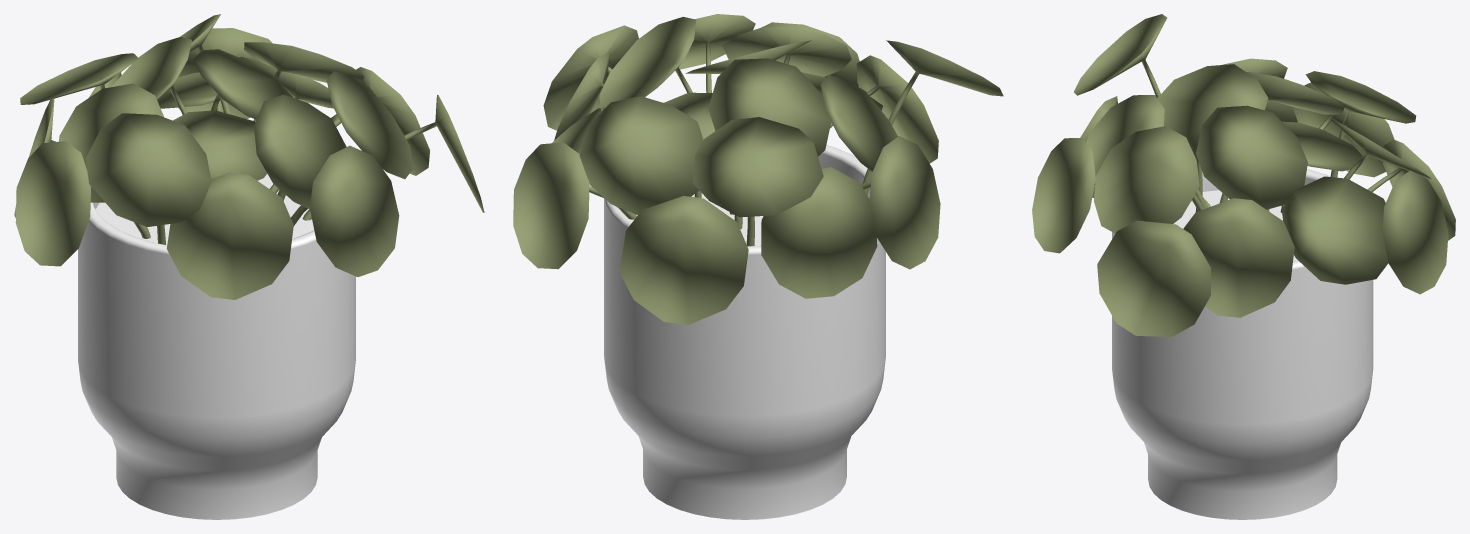
The model's file is potted plant.fbx.
The picture shows the model from 3 angles, left to right: view 1: azimuth 30°, elevation 25°; view 2: azimuth 150°, elevation 25°; view 3: azimuth 270°, elevation 25°; orthographic projection. The views are drawn at different scales.
Parts seen in each view (by area): view 1: potted_plant, sweep18, sweep17, sweep9, sweep4, sweep20, sweep10, sweep21, sweep6, sweep8, sweep12, sweep22 (+8 smaller); view 2: potted_plant, sweep13, sweep15, sweep19, sweep7, sweep14, sweep4, sweep12, sweep22, sweep8, sweep20, sweep18 (+8 smaller); view 3: potted_plant, sweep5, sweep23, sweep11, sweep22, sweep10, sweep14, sweep9, sweep6, sweep17, sweep20, sweep7 (+6 smaller).
Part boxes in pixels (x1=…): potted_plant: x1=78, y1=174, x2=355, y2=519; sweep18: x1=166, y1=172, x2=293, y2=299; sweep17: x1=85, y1=113, x2=211, y2=244; sweep9: x1=291, y1=145, x2=399, y2=276; sweep4: x1=15, y1=141, x2=150, y2=266; sweep20: x1=254, y1=94, x2=346, y2=209; sweep10: x1=277, y1=71, x2=412, y2=200; sweep21: x1=173, y1=110, x2=267, y2=180; sweep6: x1=192, y1=49, x2=293, y2=119; sweep8: x1=59, y1=83, x2=163, y2=202; sweep12: x1=111, y1=37, x2=191, y2=114; sweep22: x1=244, y1=42, x2=364, y2=121; potted_plant: x1=604, y1=145, x2=885, y2=519; sweep13: x1=619, y1=195, x2=748, y2=324; sweep15: x1=579, y1=96, x2=703, y2=214; sweep19: x1=761, y1=167, x2=877, y2=298; sweep7: x1=692, y1=117, x2=823, y2=246; sweep14: x1=513, y1=142, x2=636, y2=269; sweep4: x1=861, y1=136, x2=940, y2=269; sweep12: x1=708, y1=58, x2=831, y2=156; sweep22: x1=599, y1=16, x2=734, y2=214; sweep8: x1=820, y1=75, x2=897, y2=171; sweep20: x1=722, y1=26, x2=851, y2=76; sweep18: x1=830, y1=55, x2=938, y2=163; potted_plant: x1=1112, y1=169, x2=1373, y2=519; sweep5: x1=1097, y1=220, x2=1210, y2=336; sweep23: x1=1183, y1=198, x2=1294, y2=317; sweep11: x1=1281, y1=176, x2=1388, y2=284; sweep22: x1=1196, y1=105, x2=1307, y2=209; sweep10: x1=1094, y1=126, x2=1204, y2=233; sweep14: x1=1382, y1=170, x2=1448, y2=294; sweep9: x1=1032, y1=138, x2=1095, y2=253; sweep6: x1=1157, y1=64, x2=1269, y2=211; sweep17: x1=1074, y1=14, x2=1191, y2=201; sweep20: x1=1086, y1=95, x2=1207, y2=208; sweep7: x1=1305, y1=71, x2=1416, y2=177.
Bounding box in the file's own units: 36.73 × 36.71 × 35.02.
